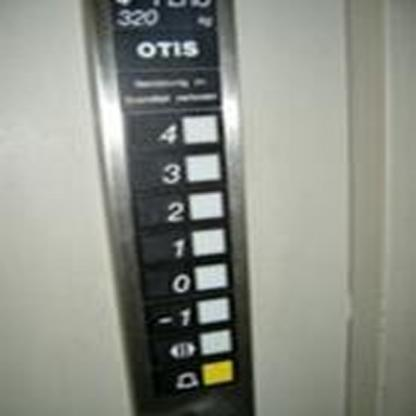-1: (140, 292, 236, 334)
0: (135, 259, 234, 298)
1: (134, 224, 233, 265)
2: (130, 188, 230, 226)
3: (126, 150, 228, 191)
4: (126, 107, 224, 152)
alarm: (148, 355, 238, 396)
open: (146, 326, 236, 364)
